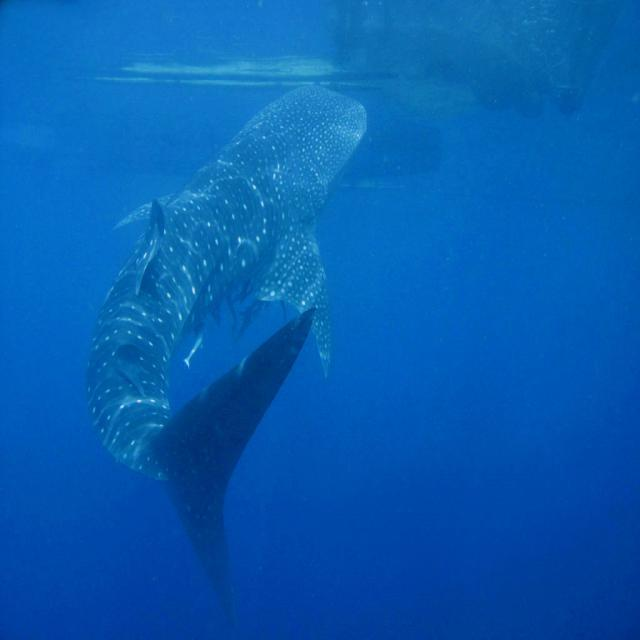Shark: (90, 84, 364, 634)
